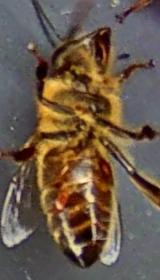varroa_mite: (44, 181, 72, 218), (93, 152, 120, 184)
